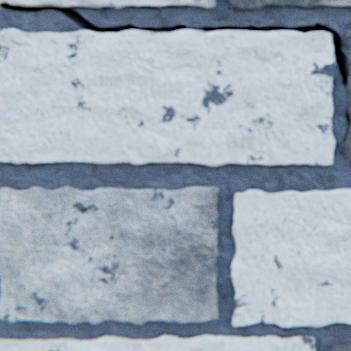brick: (0, 28, 334, 165), (0, 185, 218, 323), (232, 188, 350, 325), (0, 333, 314, 350), (0, 0, 216, 8), (231, 0, 350, 9), (343, 30, 350, 161), (331, 340, 350, 350)
crack: (1, 2, 348, 87), (344, 108, 349, 130)
